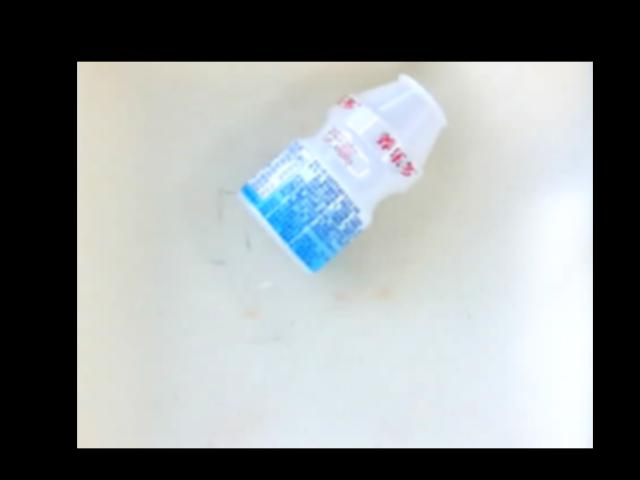Bottle: (236, 74, 447, 273)
